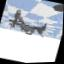drone: (6, 8, 49, 39)
